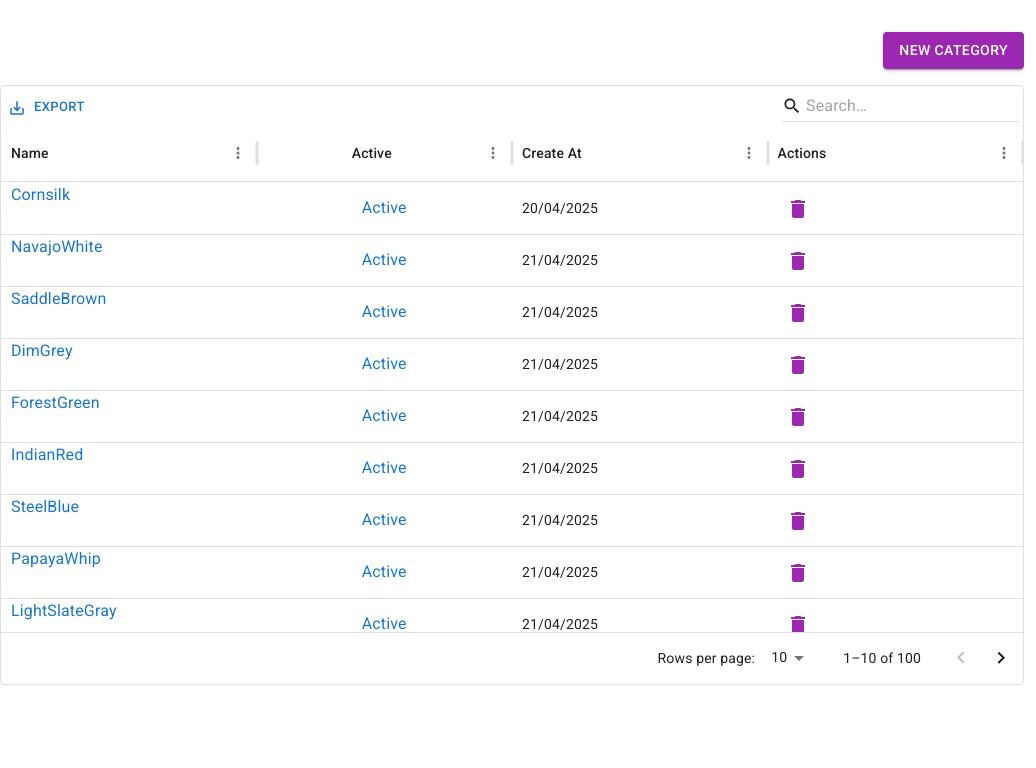
Test case: Test ListCategory page › should handle delete category success
The image size is (1036, 768).
Expected: the text "Cornsilk" is shown, [11,184,70,204]
Click the button with test id "delete-category-button" in the row of "Cornsilk": (798, 209) [778,189,818,229]
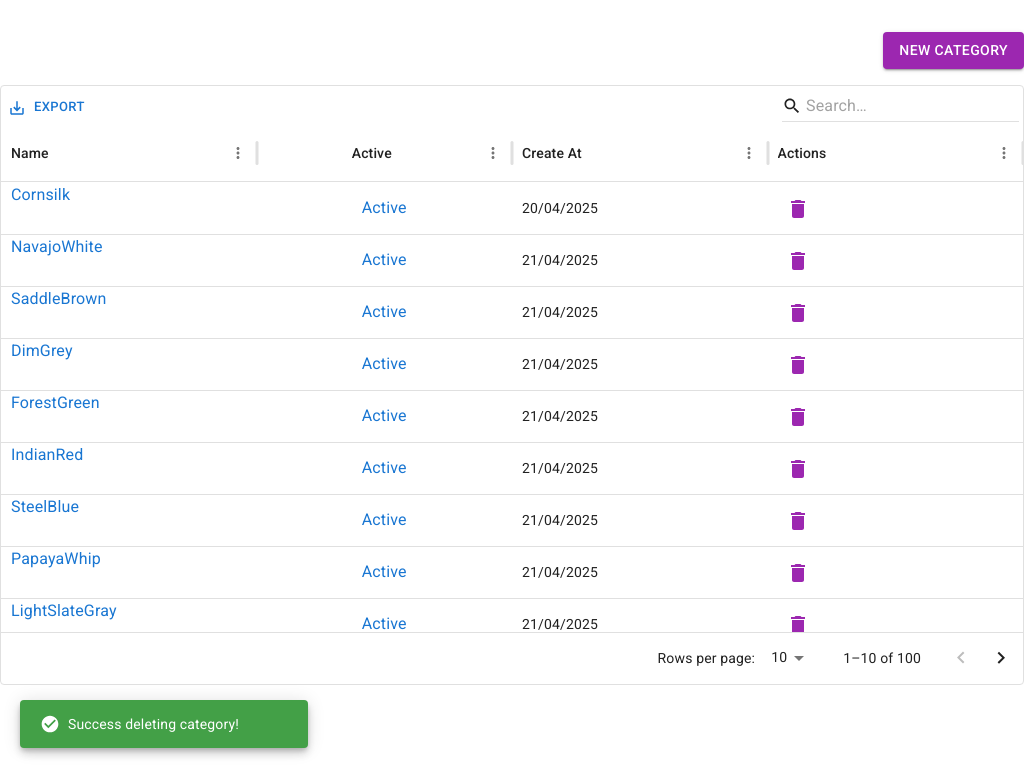
Now the text "Success deleting category!" is shown, box [40,714,239,734]
